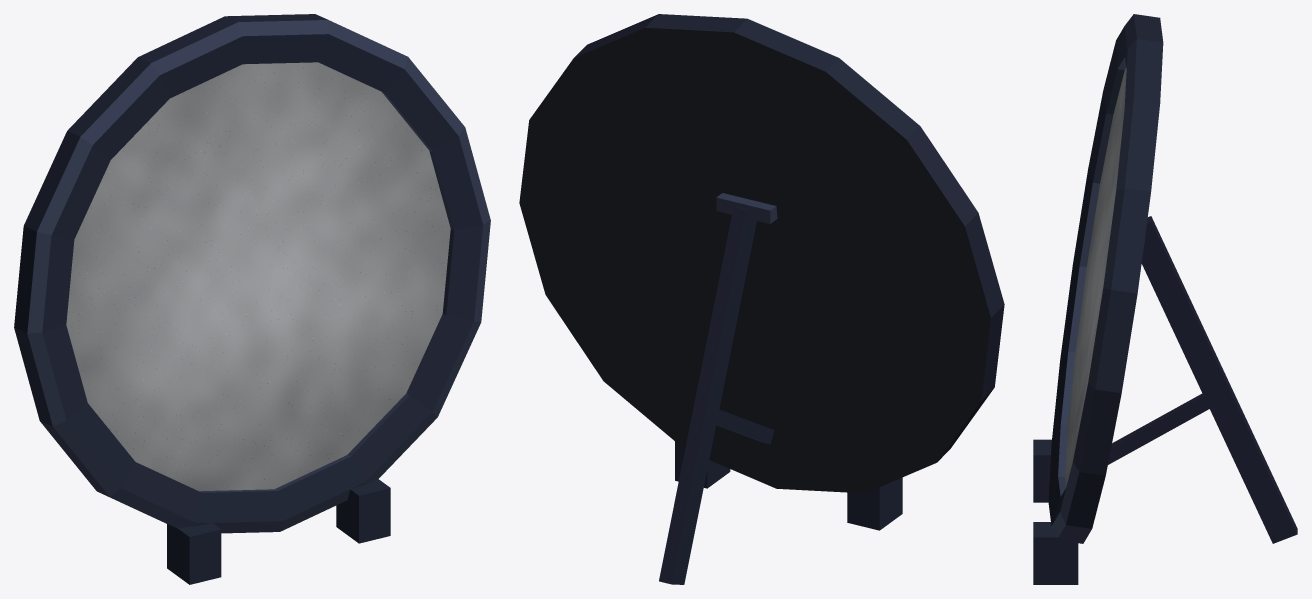
File: Mirror_Circle.fbx
3 views of the same model, side by side, from view 1: azimuth 30°, elevation 25°; view 2: azimuth 150°, elevation 25°; view 3: azimuth 270°, elevation 25° (orthographic). The views are drawn at different scales.
Visible parts, largest first — view 1: Mirror_Circle; view 2: Mirror_Circle; view 3: Mirror_Circle.
Boxes of the visible parts, box(x1,y1,x2,y2) form: Mirror_Circle: box(14, 14, 490, 584); Mirror_Circle: box(519, 14, 1004, 584); Mirror_Circle: box(1033, 14, 1297, 584).
Size of the model in its own units: 0.8758 by 0.9116 by 0.4345.
4 materials, 1 textured.
